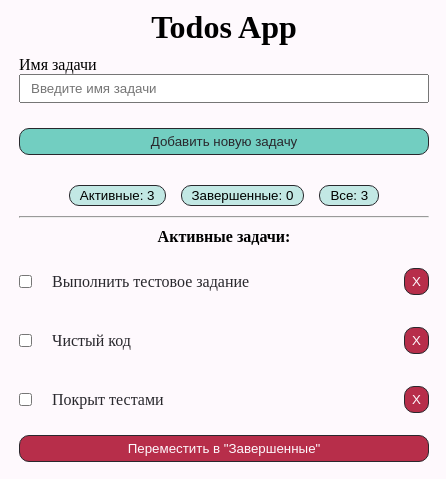
TodosContent component › checking tasks after changing status task to completed status
Click the button "Завершенные: 0".
click(242, 196)  # box [180, 185, 304, 206]
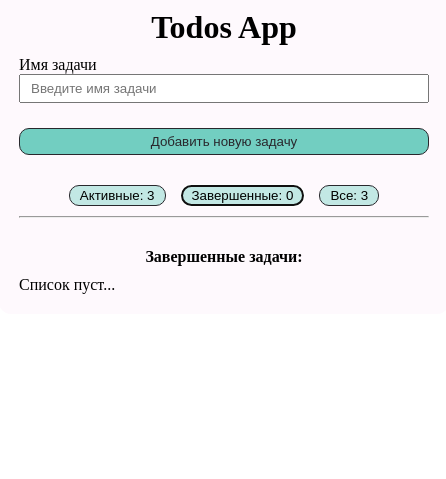
Now the text "Список пуст..." is shown, box [19, 276, 115, 293]
Click the button "Активные: 3".
click(117, 196)  # box [69, 185, 166, 206]
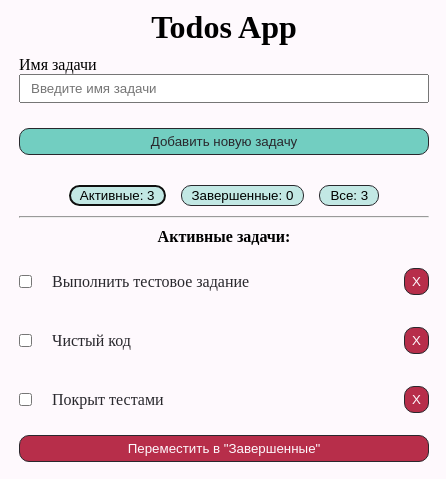
Click the checkbox labelled "Выполнить тестовое задание".
click(26, 282)  # box [19, 275, 32, 288]
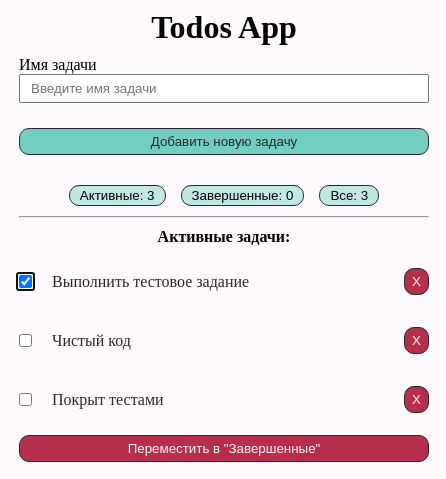
Now the checkbox labelled "Выполнить тестовое задание" is checked, box [19, 275, 32, 288]
Click the button "Переместить в \"Завершенные\"".
click(224, 448)  # box [19, 435, 429, 462]
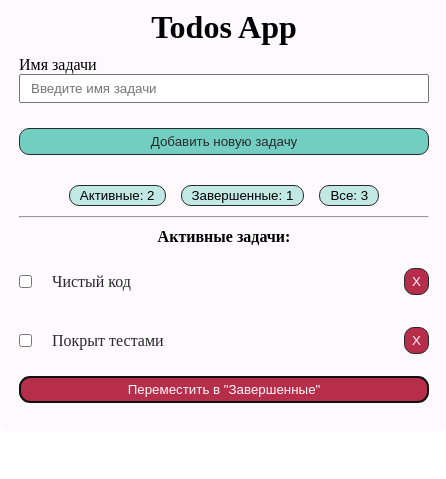
Click the button "Завершенные: 1".
click(242, 196)  # box [180, 185, 304, 206]
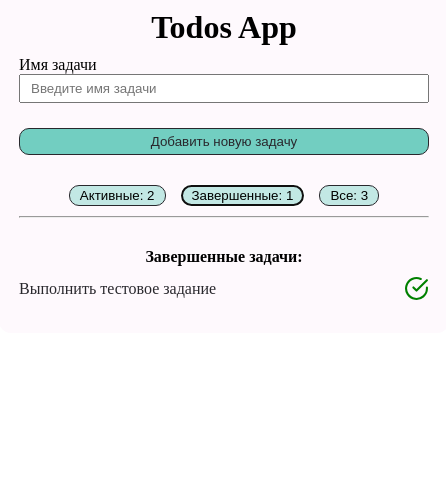
Now the number of list items with test id "completed-task" is 1, box [19, 276, 429, 301]
